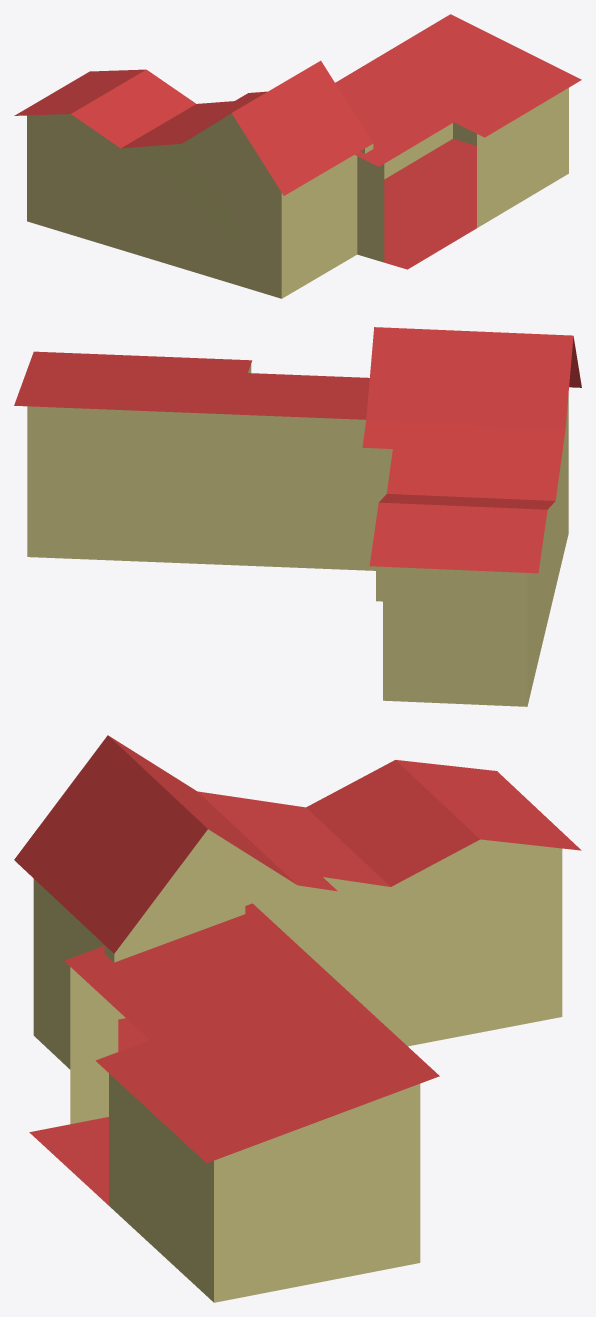
The picture shows the model from 3 angles, top to bottom: view 1: azimuth 30°, elevation 25°; view 2: azimuth 150°, elevation 25°; view 3: azimuth 270°, elevation 25°; orthographic projection. The views are drawn at different scales.
Bounding box in the file's own units: 29.33 × 18.99 × 10.31.
